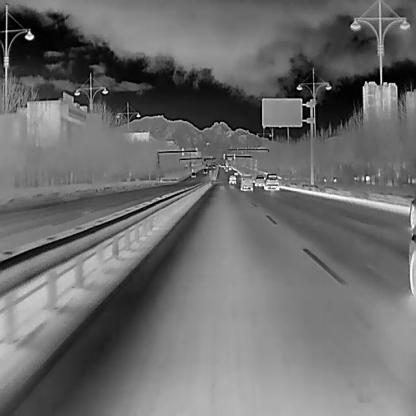car: (264, 172, 279, 190), (254, 174, 264, 186), (203, 167, 208, 173), (224, 166, 229, 172), (190, 172, 195, 177), (228, 164, 232, 170), (212, 164, 216, 169), (233, 170, 238, 174), (220, 164, 225, 167), (208, 164, 211, 168), (204, 164, 207, 166)
truck: (239, 174, 254, 190), (228, 174, 236, 184)
